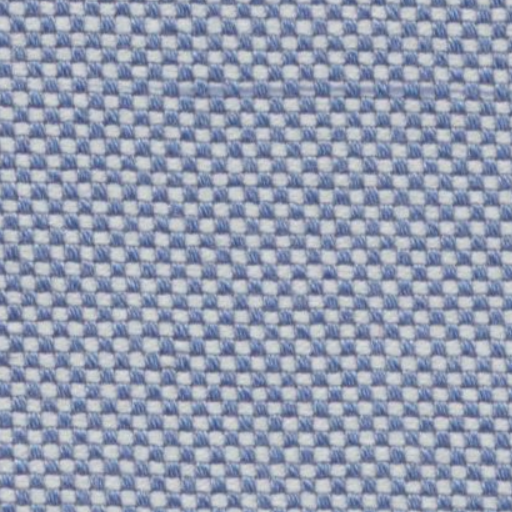TuoSha: (200, 60, 498, 134)
